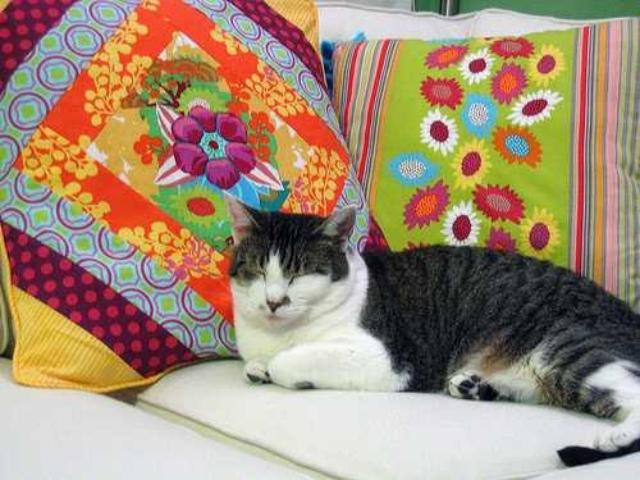pillow: (1, 0, 372, 394)
